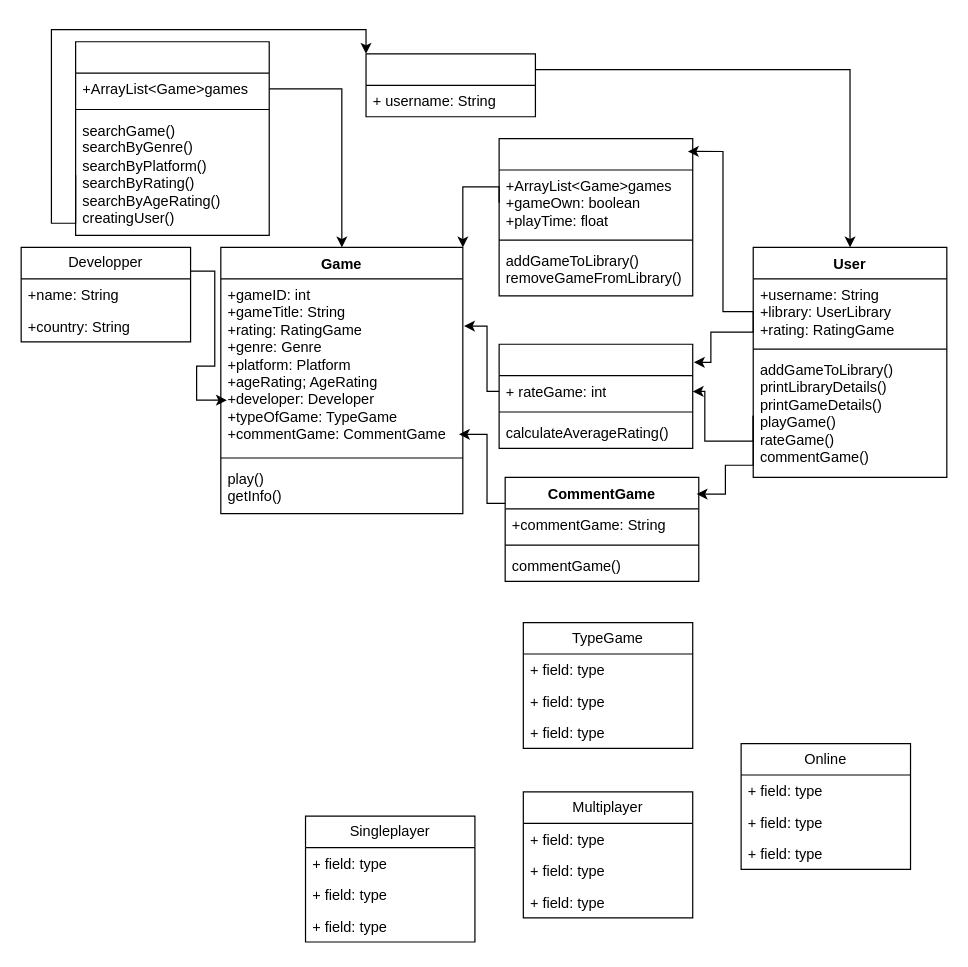
This 968x967 diagram has some shape labels left out. The box of each missing label's shape, as (x1, y1, x2, y2) in pixels:
CreatingUser: (365, 53, 535, 117)
HomePage: (74, 41, 269, 235)
RatingGame: (498, 343, 693, 448)
UserLibrary: (498, 137, 693, 296)
